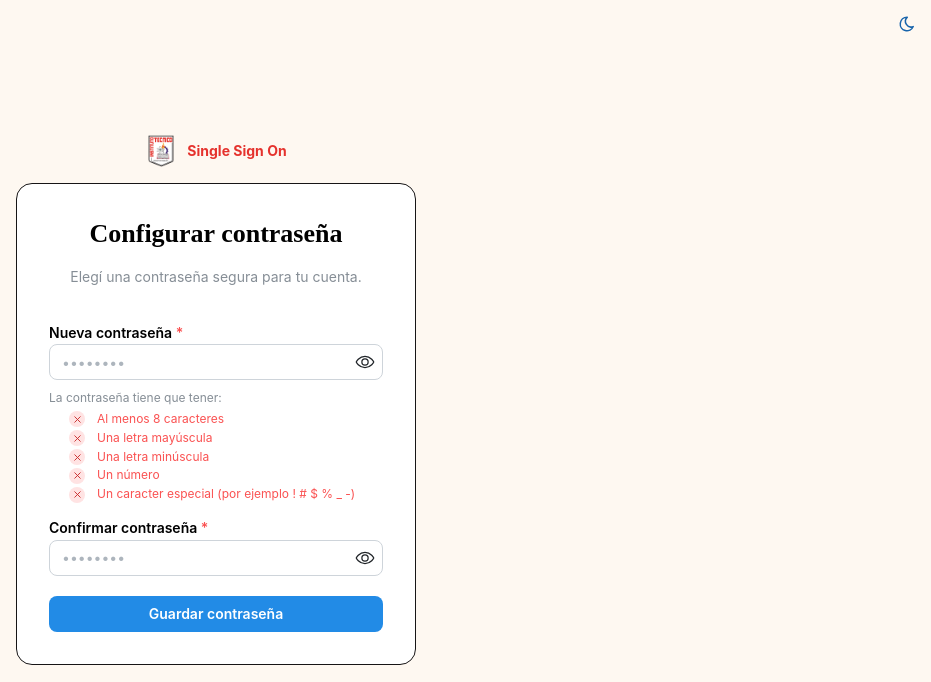
Test: SetPasswordPage › debería mostrar fatalError si falla el envío en /sso/set-password
Type "Nueva#Pass123" into the password field labelled "Nueva contraseña *" at (216, 362), box x1=50 y1=345 x2=382 y2=379
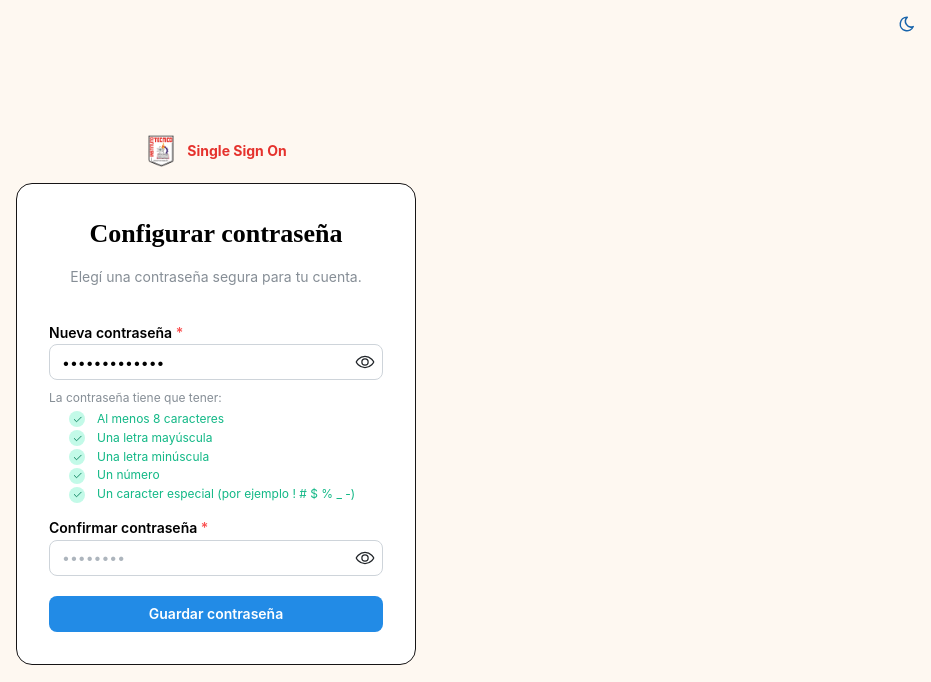
Type "Nueva#Pass123" into the password field labelled "Confirmar contraseña *" at (216, 558), box x1=50 y1=541 x2=382 y2=575
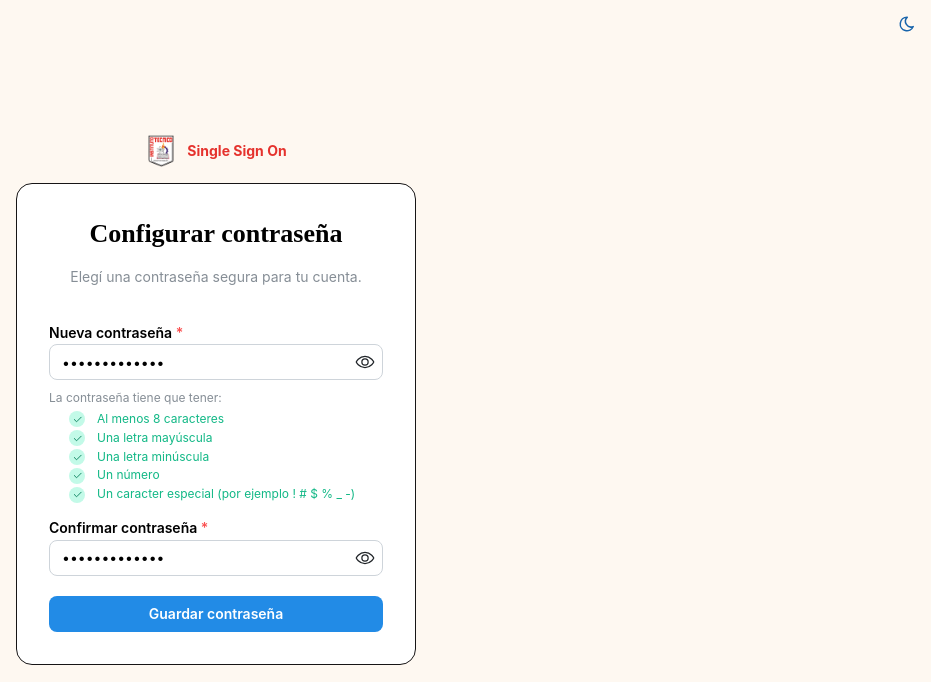
Click the button "Guardar contraseña" at (216, 614), box x1=49 y1=596 x2=383 y2=632
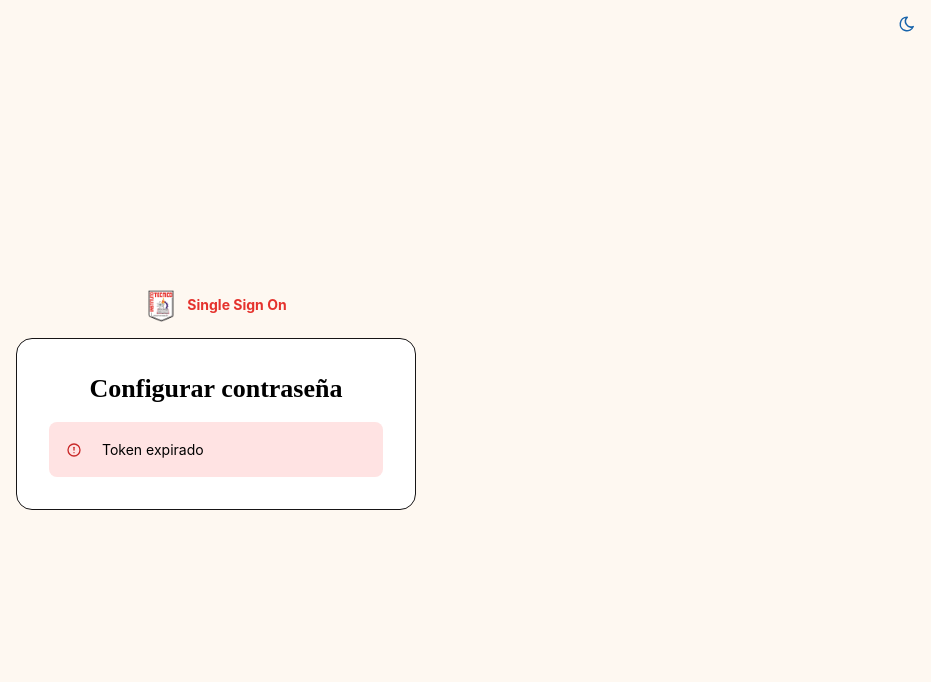
Now the text "Token expirado" is shown, box x1=102 y1=441 x2=204 y2=458
